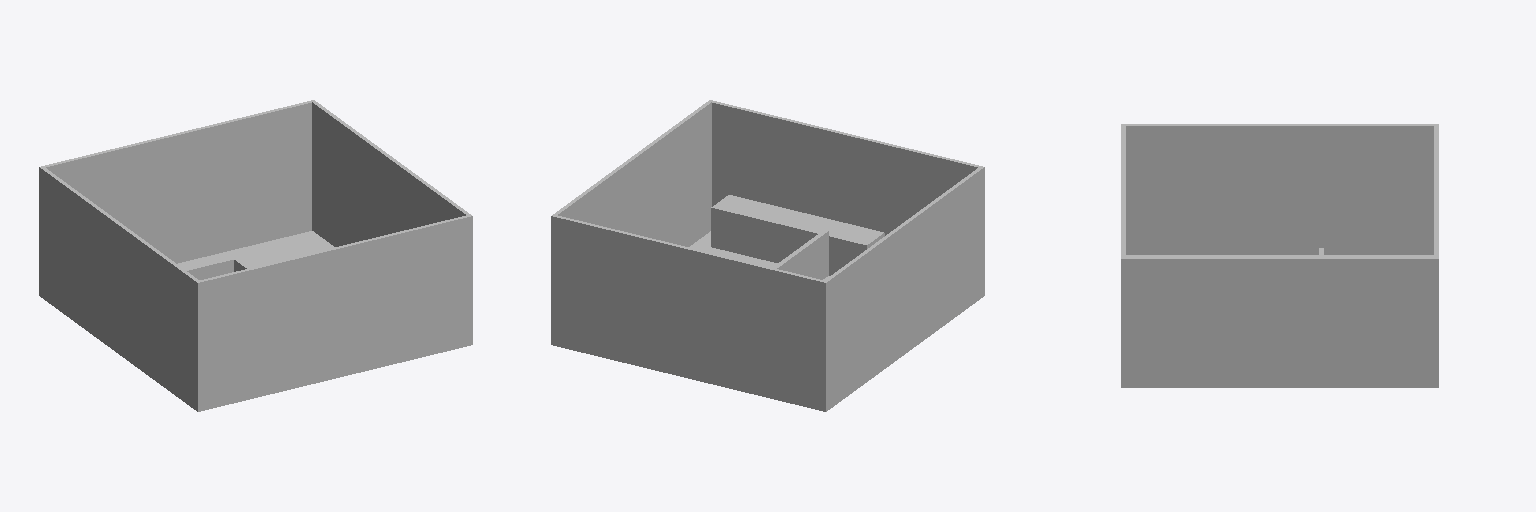
File: office-collision.obj
The picture shows the model from 3 angles: view 1: azimuth 30°, elevation 25°; view 2: azimuth 150°, elevation 25°; view 3: azimuth 270°, elevation 25°; orthographic projection.
Visible parts, largest first — view 1: Cube.001, Cube_Cube.001; view 2: Cube.001, Cube.002, Cube_Cube.001; view 3: Cube.001.
Part boxes in pixels (x1,y1,x2,y2): Cube.001: (39,100,472,411); Cube_Cube.001: (185,257,250,279); Cube.001: (551,100,984,411); Cube.002: (711,195,884,275); Cube_Cube.001: (773,230,828,279); Cube.001: (1121,124,1438,387).
Size of the model in its own units: 14.51 by 6.51 by 14.51.